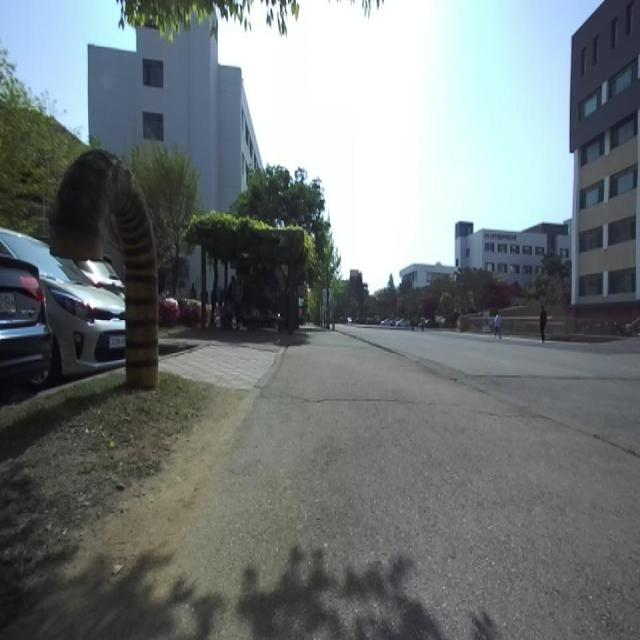sidewalk: (162, 332, 640, 640)
